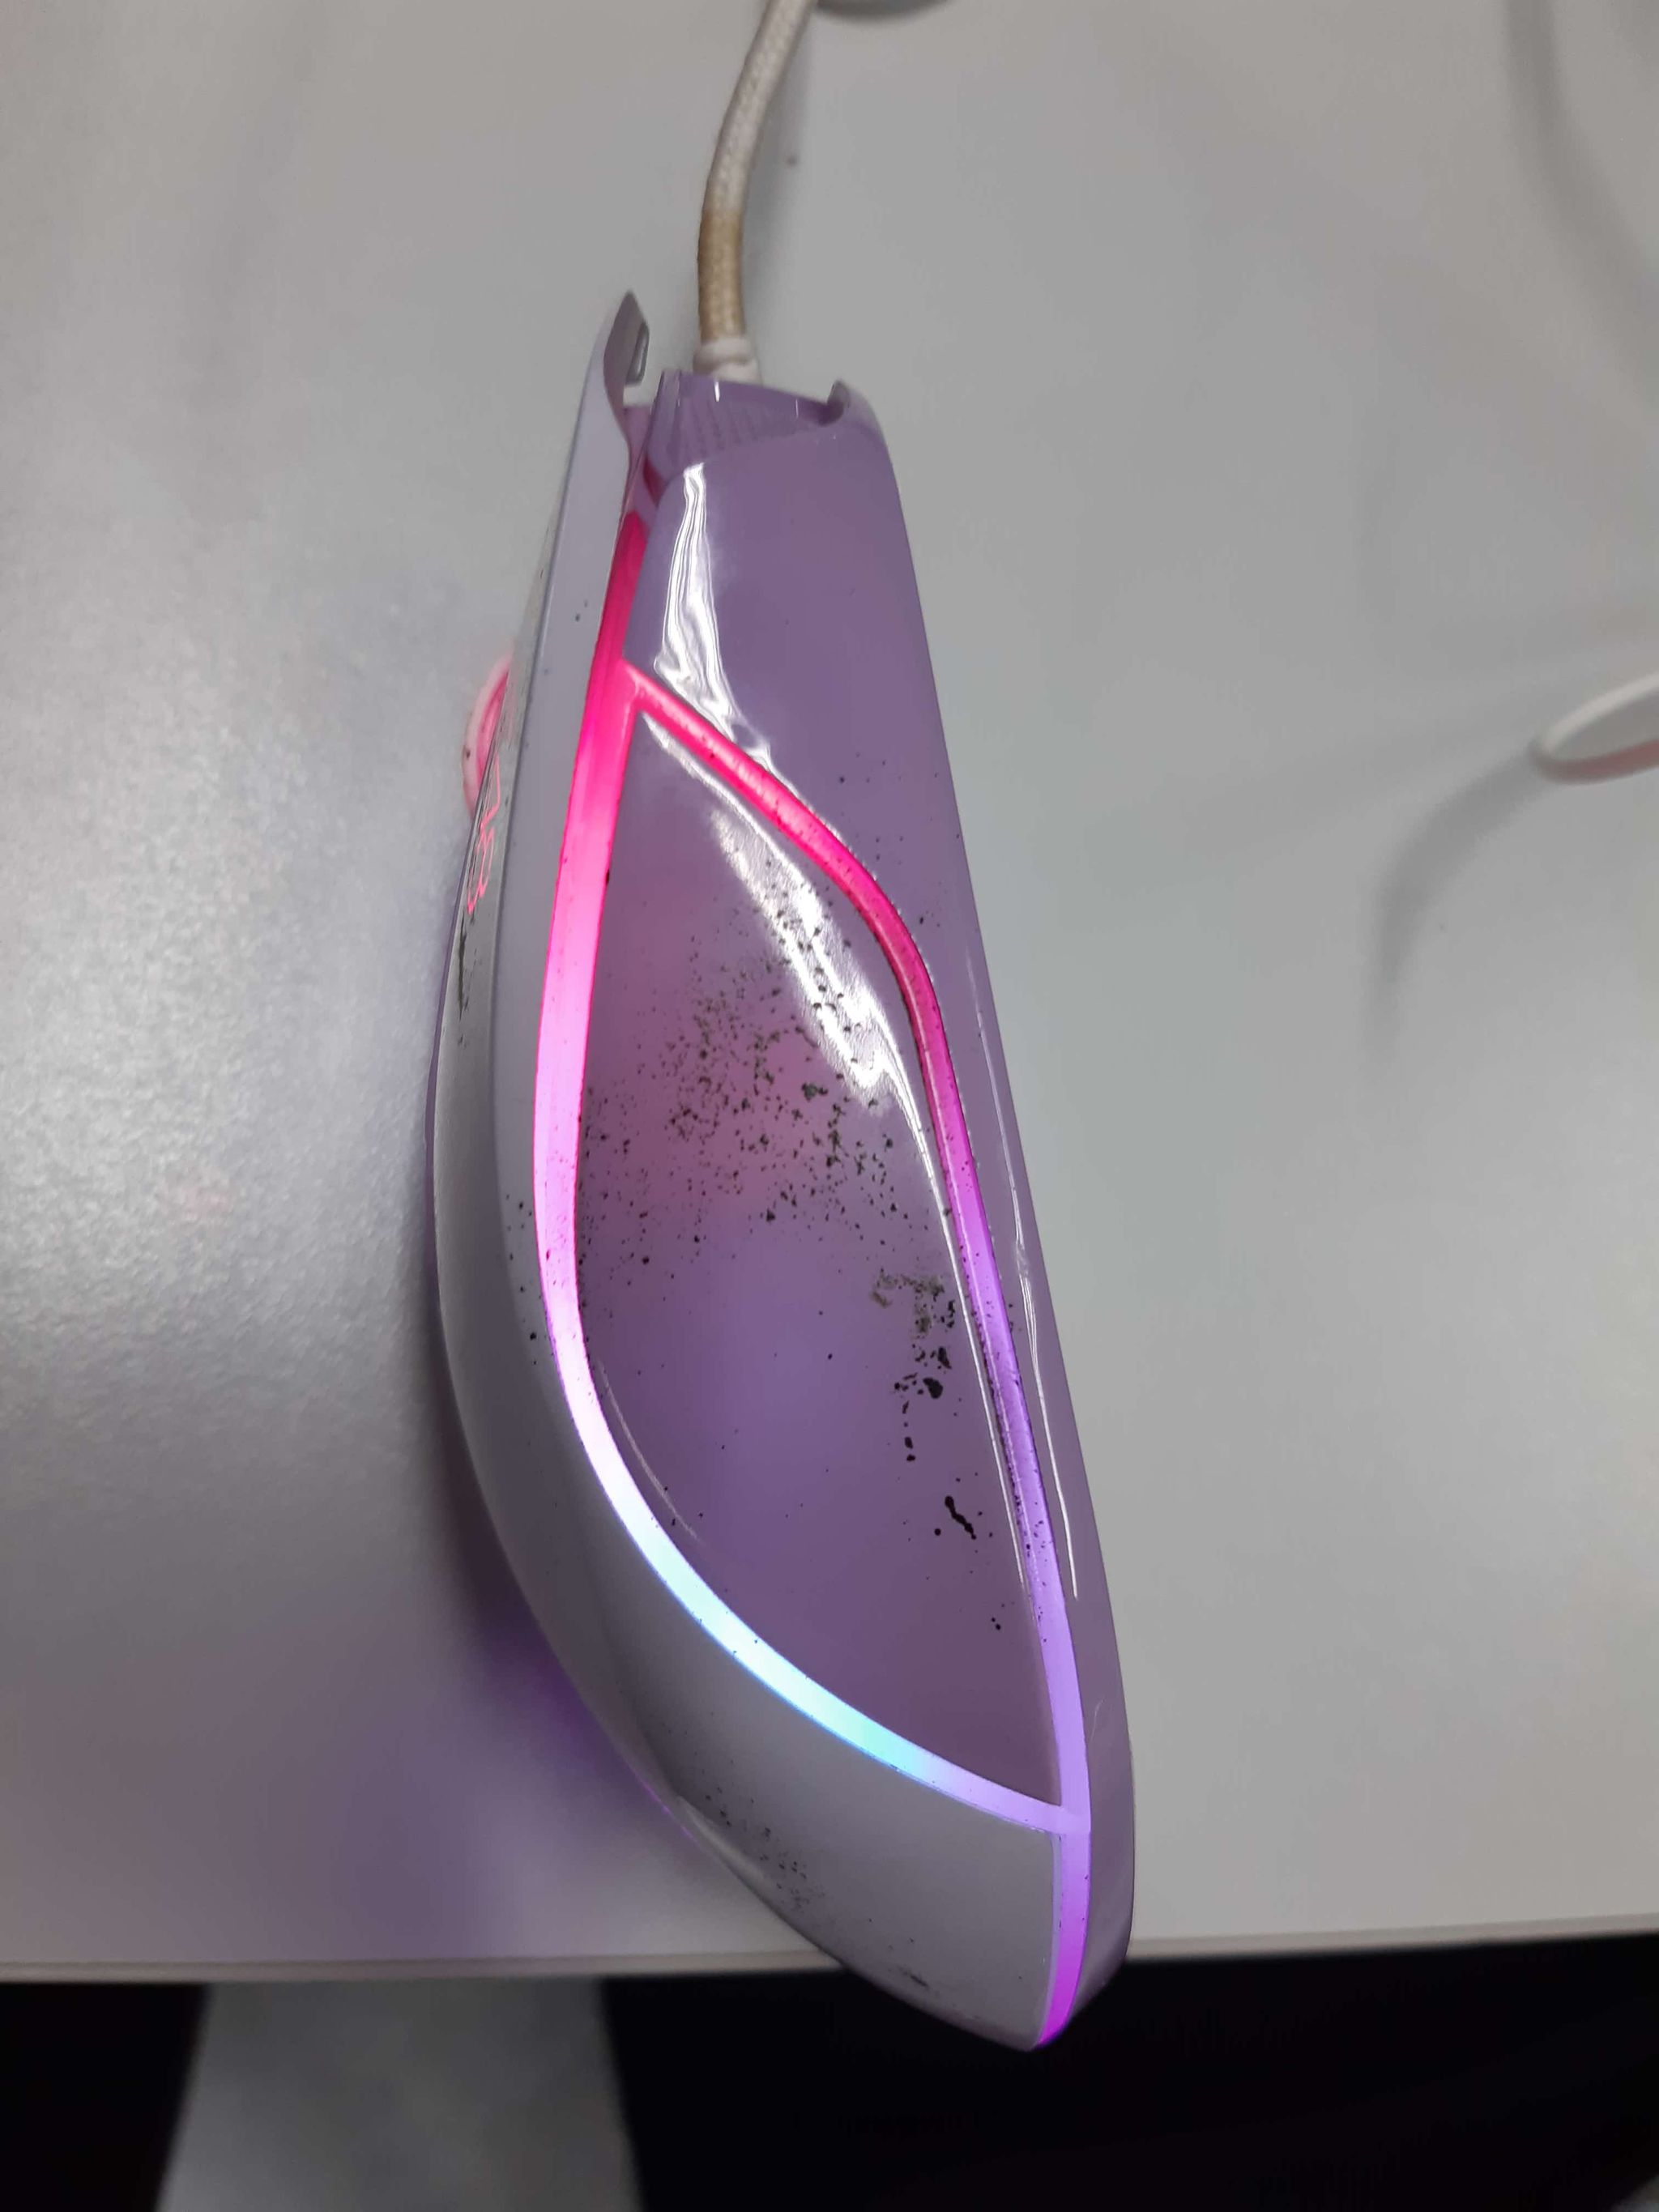mouse: (399, 298, 1138, 2062)
